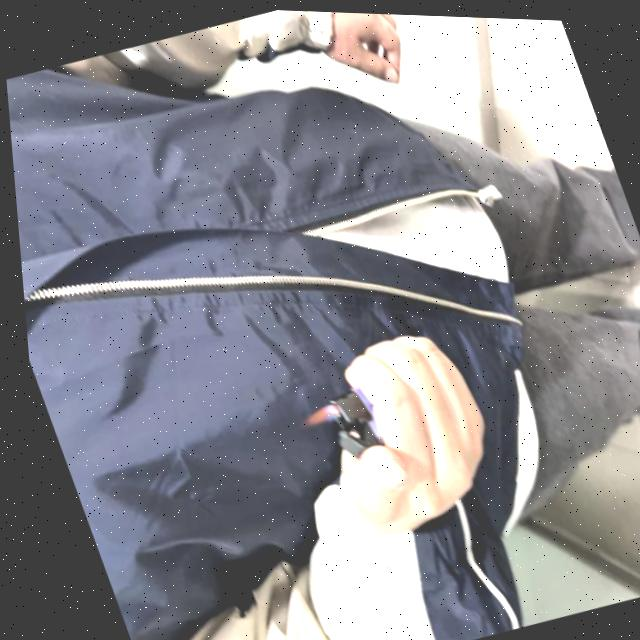Fire: (288, 400, 335, 428)
